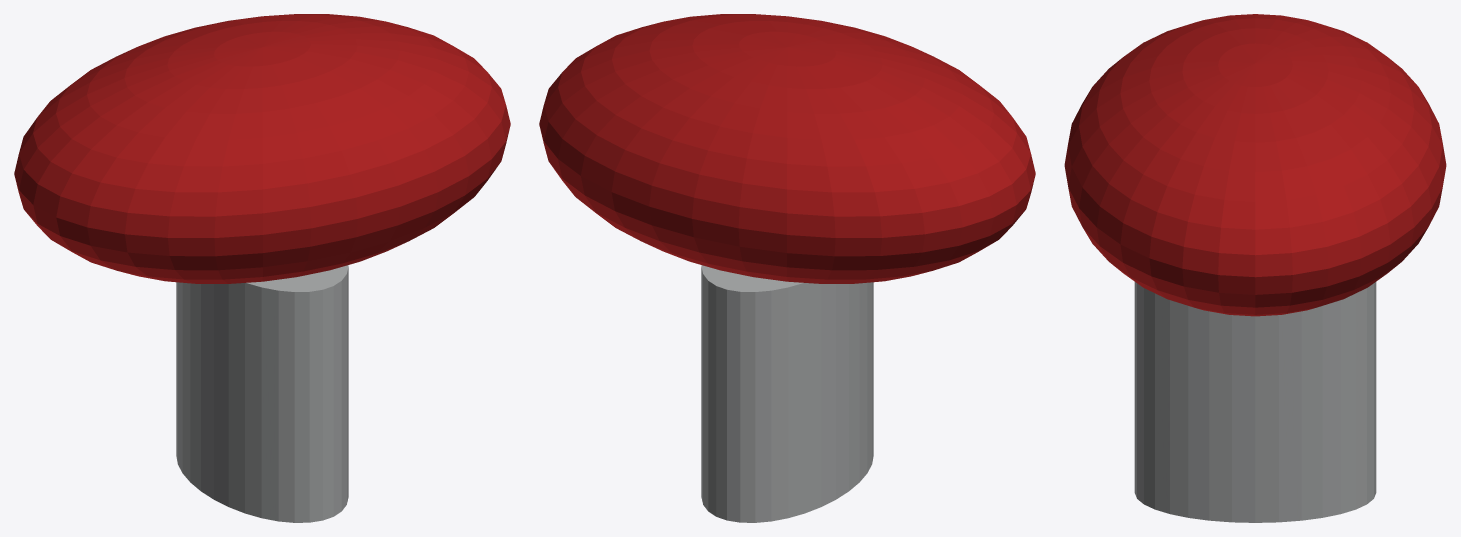
The model's file is mushroom 1 blender.glb.
3 views of the same model, side by side, from view 1: azimuth 30°, elevation 25°; view 2: azimuth 150°, elevation 25°; view 3: azimuth 270°, elevation 25° (orthographic).
Parts seen in each view (by area): view 1: Sphere, Cylinder; view 2: Sphere, Cylinder; view 3: Sphere, Cylinder.
Part boxes in pixels (x1,y1,x2,y2): Sphere: [14, 14, 510, 283]; Cylinder: [176, 265, 348, 522]; Sphere: [539, 14, 1035, 283]; Cylinder: [701, 265, 873, 522]; Sphere: [1064, 14, 1446, 316]; Cylinder: [1134, 282, 1376, 522].
Bounding box in the file's own units: 4.27 × 3.82 × 3.08.
